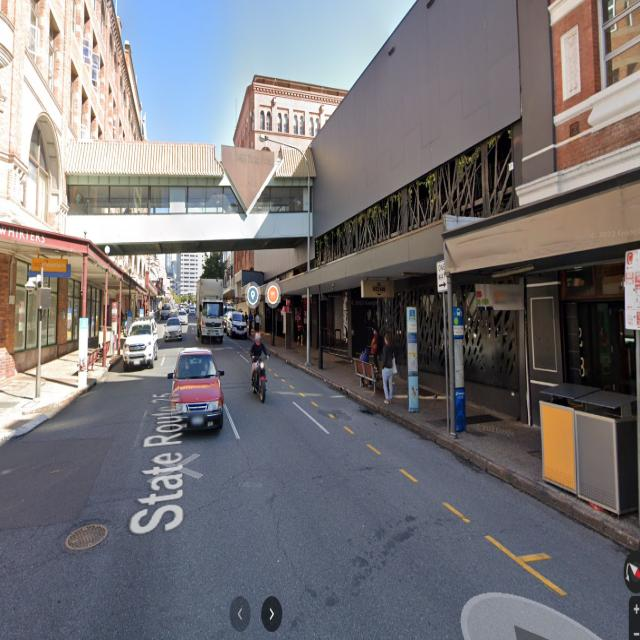light pole: (258, 134, 311, 369)
steel-pole: (306, 165, 311, 367)
streetlight: (258, 134, 306, 163)
